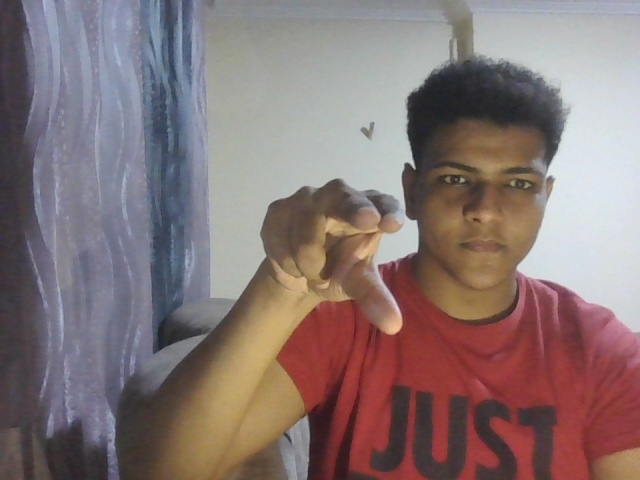no: (242, 149, 420, 357)
